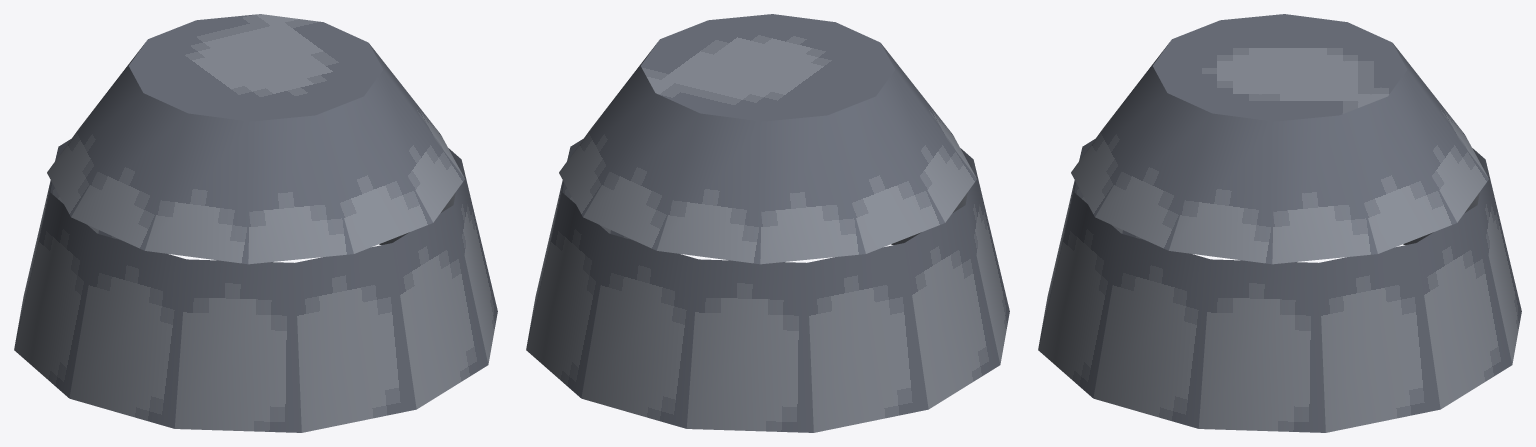
The model's file is rock_2.glb.
The picture shows the model from 3 angles, left to right: view 1: azimuth 30°, elevation 25°; view 2: azimuth 150°, elevation 25°; view 3: azimuth 270°, elevation 25°; orthographic projection.
Visible parts, largest first — view 1: rock_3; view 2: rock_3; view 3: rock_3.
Boxes of the visible parts, x1,y1,x2,y2 form: rock_3: (14,14,497,432); rock_3: (526,14,1009,432); rock_3: (1038,14,1521,432).
Bounding box in the file's own units: 0.9671 × 0.5798 × 0.9671.
1 material, 1 textured.
